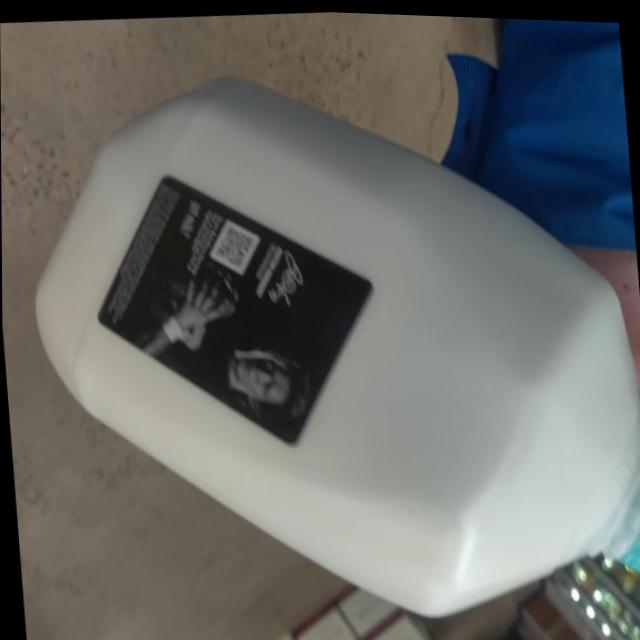Milk: (19, 33, 640, 640)
